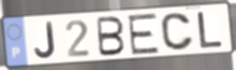2: (64, 19, 90, 59)
B: (96, 16, 127, 58)
C: (159, 12, 196, 52)
E: (126, 12, 161, 56)
J: (33, 21, 58, 60)
L: (197, 10, 225, 49)
